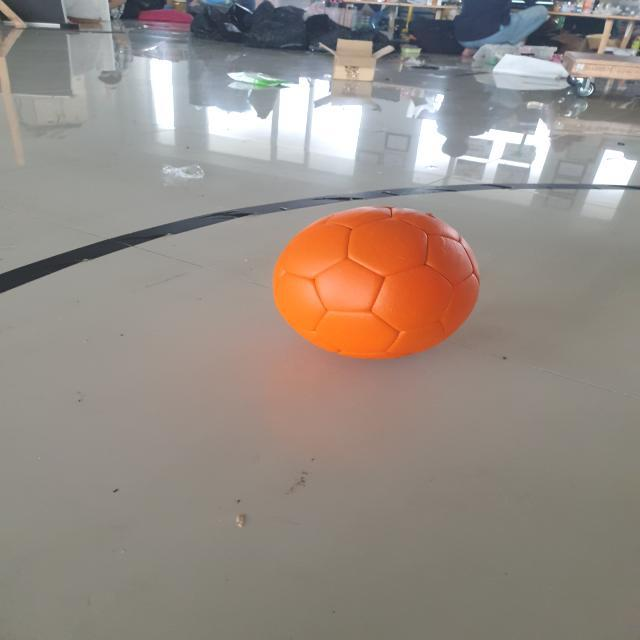bola: (266, 198, 487, 364)
